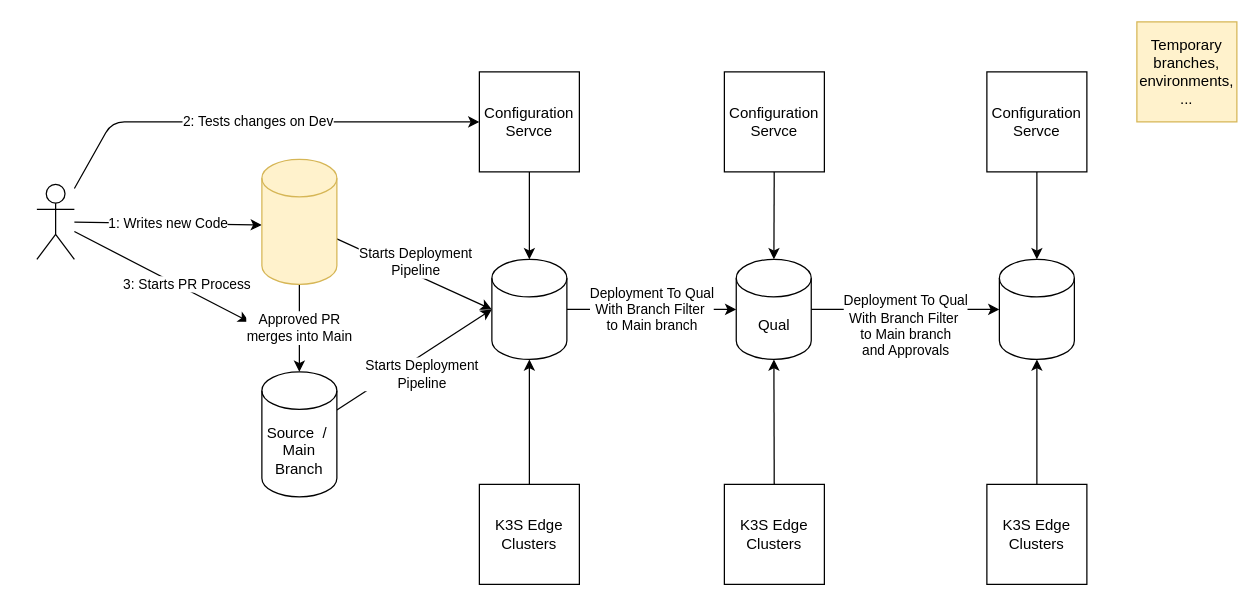
Some shapes in this 1259 by 606 pixel diagram are drawn without their labels. The centre of each missing label's shape, as x and y in pixels:
"Dev" goes at point (529, 308).
"Developer" goes at point (55, 221).
"Prod" goes at point (1036, 308).
"Source / Feature Branch" goes at point (299, 221).
